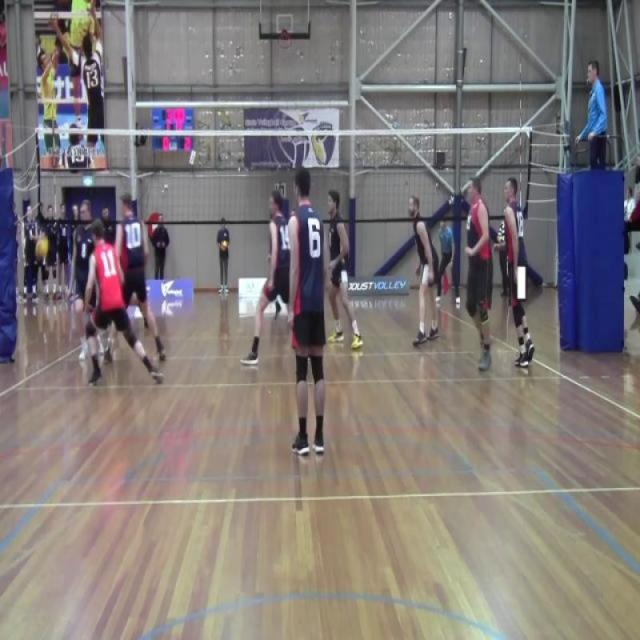volleyball: (34, 234, 50, 262), (220, 238, 228, 252)
